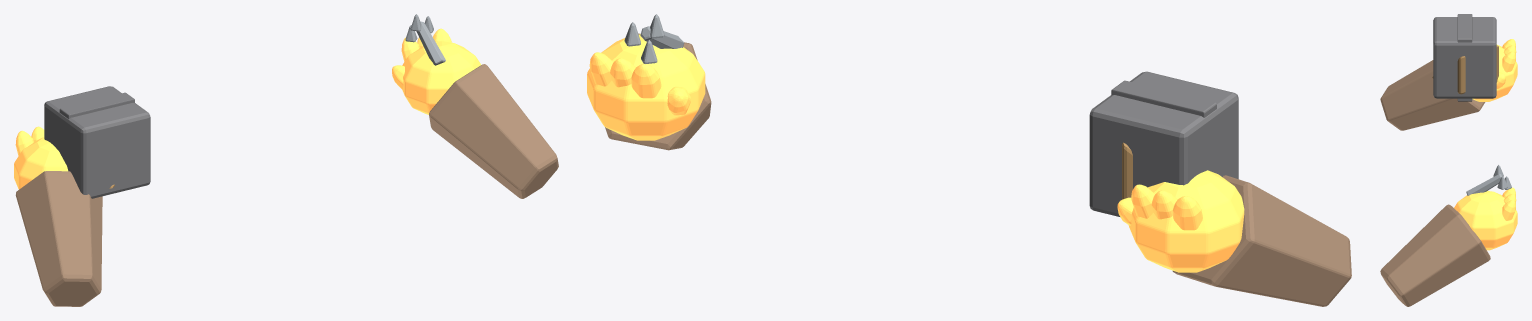
File: hands_equipment.glb
The picture shows the model from 3 angles, left to right: view 1: azimuth 30°, elevation 25°; view 2: azimuth 150°, elevation 25°; view 3: azimuth 270°, elevation 25°; orthographic projection. The views are drawn at different scales.
Visible parts, largest first — view 1: hands_equipment_part_0, hands_equipment_part_4, hands_equipment_part_12, hands_equipment_part_2, hands_equipment_part_6, hands_equipment_part_3, hands_equipment_part_10; view 2: hands_equipment_part_12, hands_equipment_part_4, hands_equipment_part_6, hands_equipment_part_2, hands_equipment_part_10, hands_equipment_part_0, hands_equipment_part_3, hands_equipment_part_11; view 3: hands_equipment_part_0, hands_equipment_part_12, hands_equipment_part_4, hands_equipment_part_2, hands_equipment_part_6, hands_equipment_part_3, hands_equipment_part_10, hands_equipment_part_11.
Part boxes in pixels (<box>): hands_equipment_part_0: <box>429,64,558,198</box>; hands_equipment_part_4: <box>15,171,102,306</box>; hands_equipment_part_12: <box>44,86,150,198</box>; hands_equipment_part_2: <box>392,28,481,114</box>; hands_equipment_part_6: <box>14,126,68,189</box>; hands_equipment_part_3: <box>405,14,445,65</box>; hands_equipment_part_10: <box>59,92,134,119</box>; hands_equipment_part_12: <box>1089,71,1238,216</box>; hands_equipment_part_4: <box>1172,175,1351,306</box>; hands_equipment_part_6: <box>1117,170,1244,272</box>; hands_equipment_part_2: <box>587,34,705,140</box>; hands_equipment_part_10: <box>1111,80,1216,117</box>; hands_equipment_part_0: <box>605,33,711,150</box>; hands_equipment_part_3: <box>624,14,684,63</box>; hands_equipment_part_11: <box>1122,142,1132,199</box>; hands_equipment_part_0: <box>1380,204,1490,306</box>; hands_equipment_part_12: <box>1433,17,1496,98</box>; hands_equipment_part_4: <box>1380,60,1485,130</box>; hands_equipment_part_2: <box>1454,187,1517,250</box>; hands_equipment_part_6: <box>1472,39,1517,101</box>; hands_equipment_part_3: <box>1466,165,1511,195</box>; hands_equipment_part_10: <box>1457,14,1472,101</box>; hands_equipment_part_11: <box>1432,45,1498,94</box>.
Size of the model in its own units: 1.63 by 0.4821 by 0.4757.
